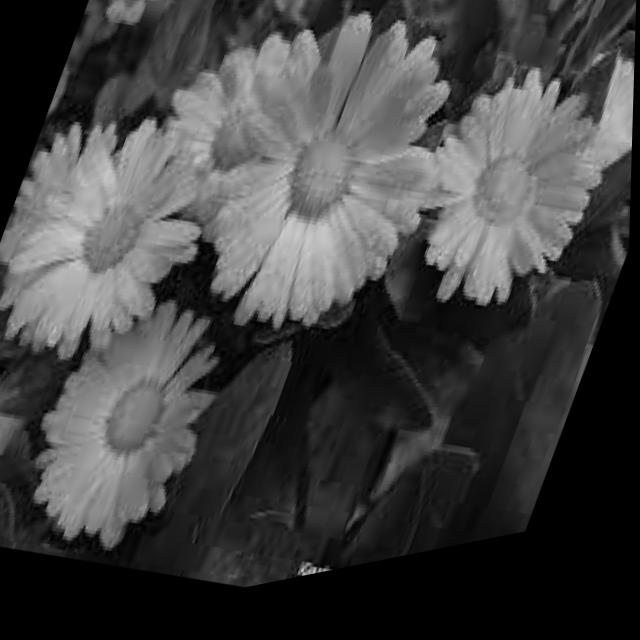Flower: (375, 62, 636, 379), (0, 264, 244, 581), (0, 78, 235, 399), (553, 65, 636, 238)
